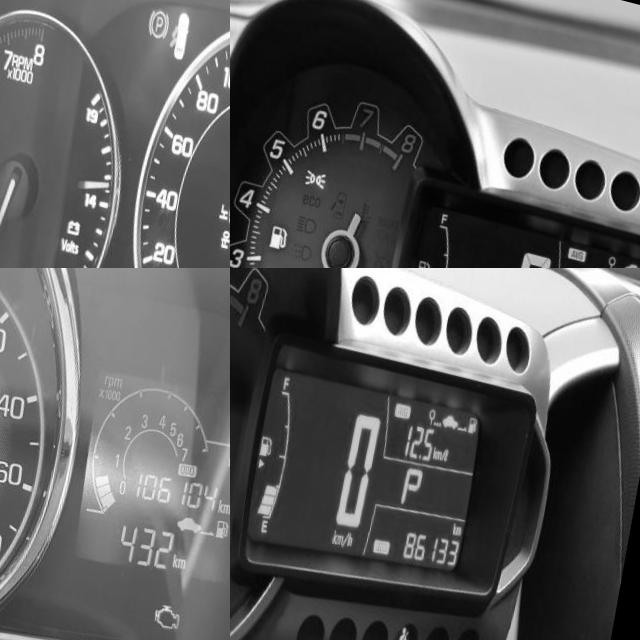Low fuel level: (278, 215, 300, 244)
SideLamp: (311, 158, 336, 182)
